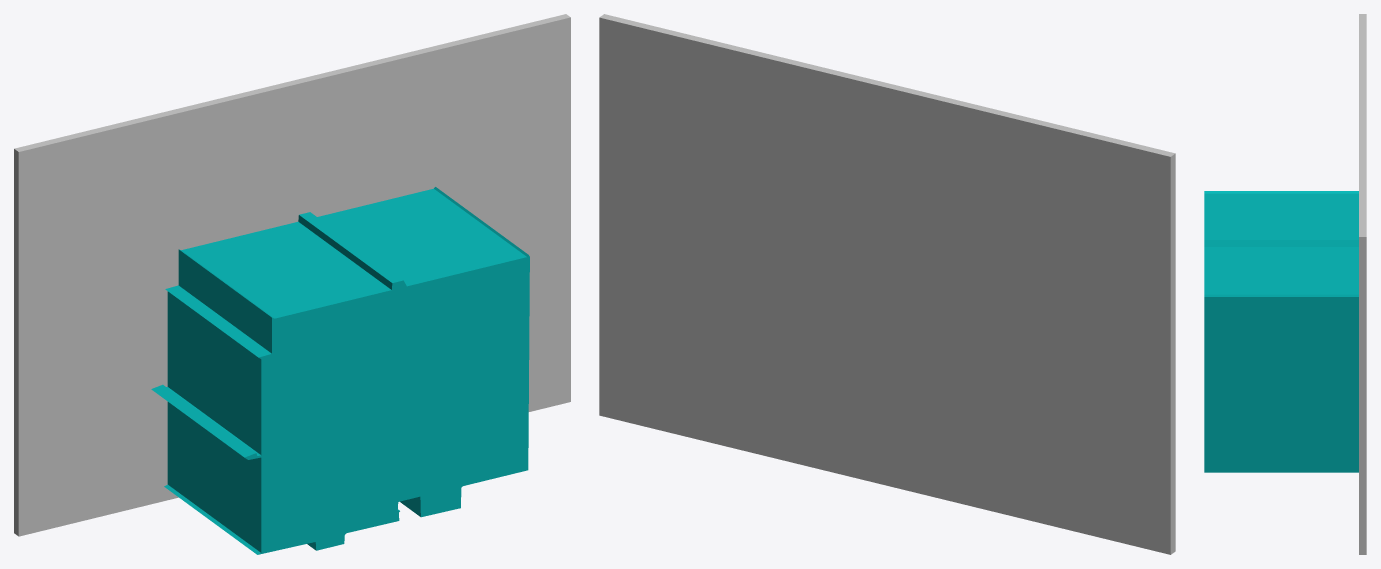
3 renders of one model, left to right at view 1: azimuth 30°, elevation 25°; view 2: azimuth 150°, elevation 25°; view 3: azimuth 270°, elevation 25°, orthographic. The views are drawn at different scales.
Visible parts, largest first — view 1: world; view 2: world; view 3: world.
Part boxes in pixels (x1,y1,x2,y2): world: [14, 14, 570, 554]; world: [599, 14, 1175, 554]; world: [1204, 14, 1366, 554].
Size of the model in its own units: 10.23 by 6.81 by 3.15.
